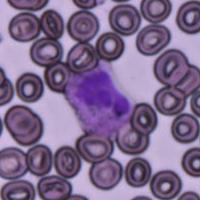E: (63, 56, 136, 140)
